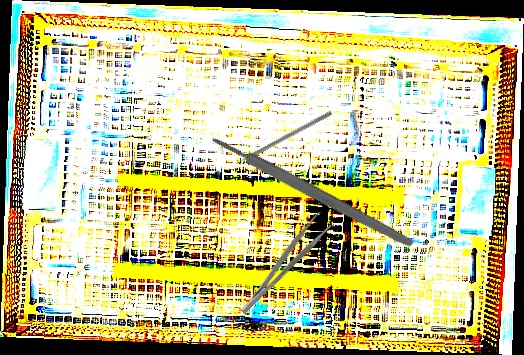Dressing Forceps: (231, 211, 333, 317)
Pusher: (225, 109, 333, 171)
Scalpel Handle: (209, 132, 416, 251)
